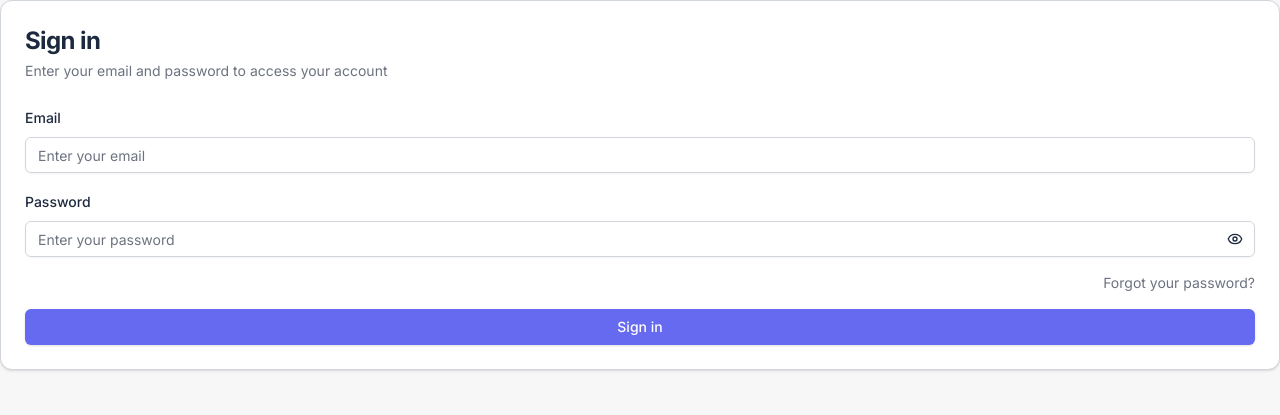
Test case: LoginForm › shows email validation error for invalid email
Type "not-an-email" into the field with placeholder "Enter your email".
click(640, 155); type("not-an-email")  # box [25,137,1255,173]
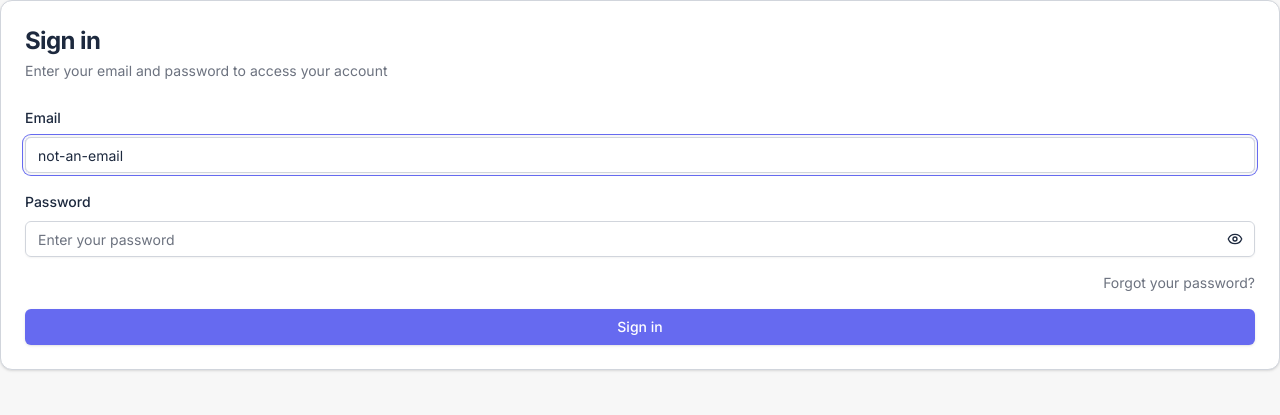
Press Tab
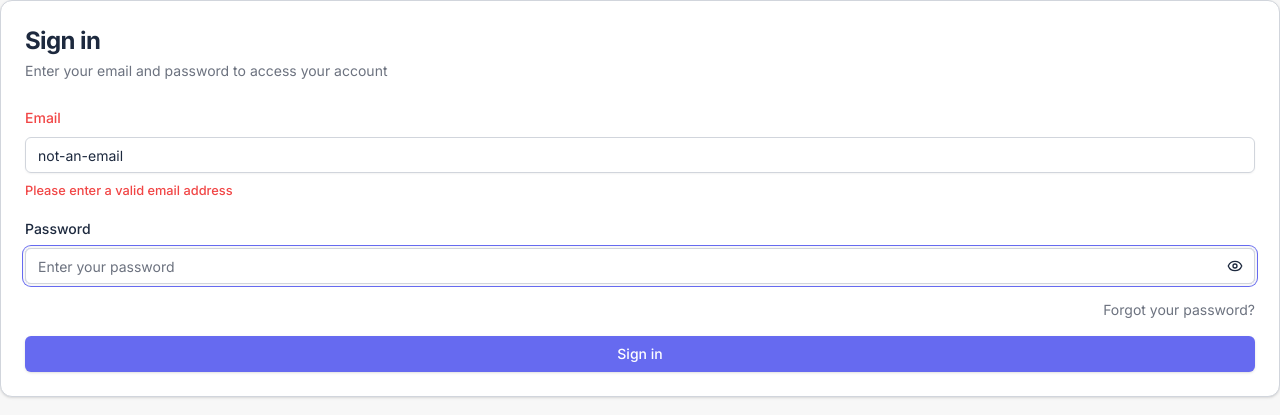
Check: the text "Please enter a valid email address" is shown, box [25,183,233,198]
